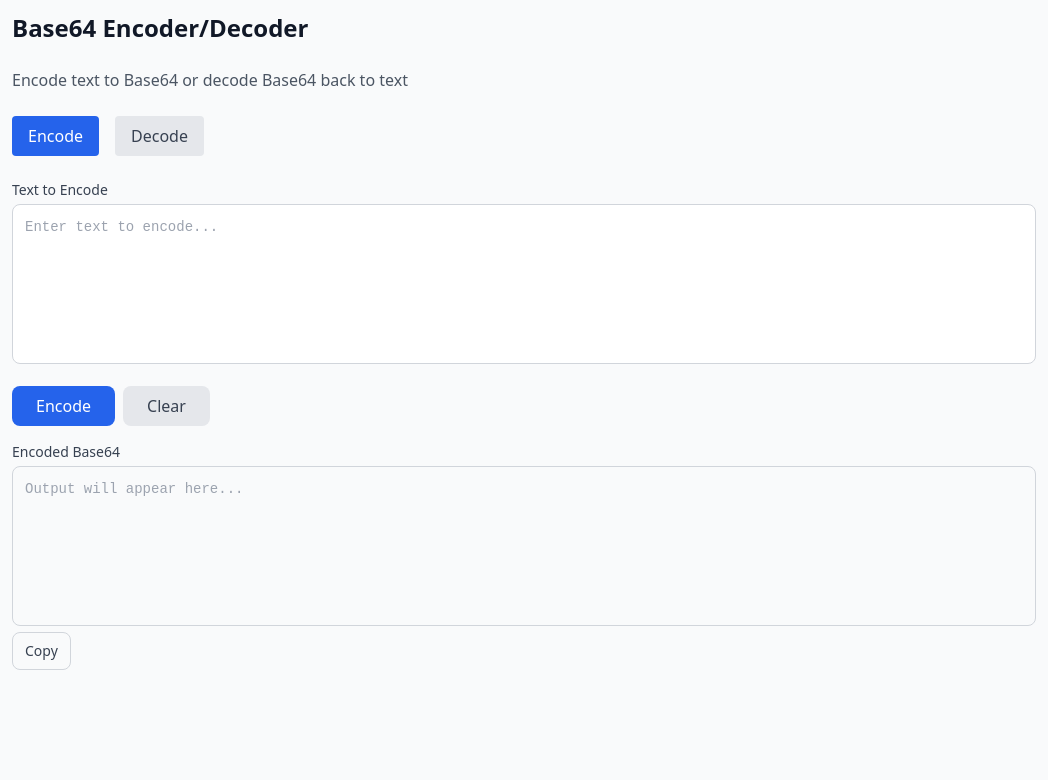
Base64EncoderDecoder › decodes base64 to text
The width and height of the screenshot is (1048, 780).
Click the button "Decode": (159, 136) [115,116,204,156]
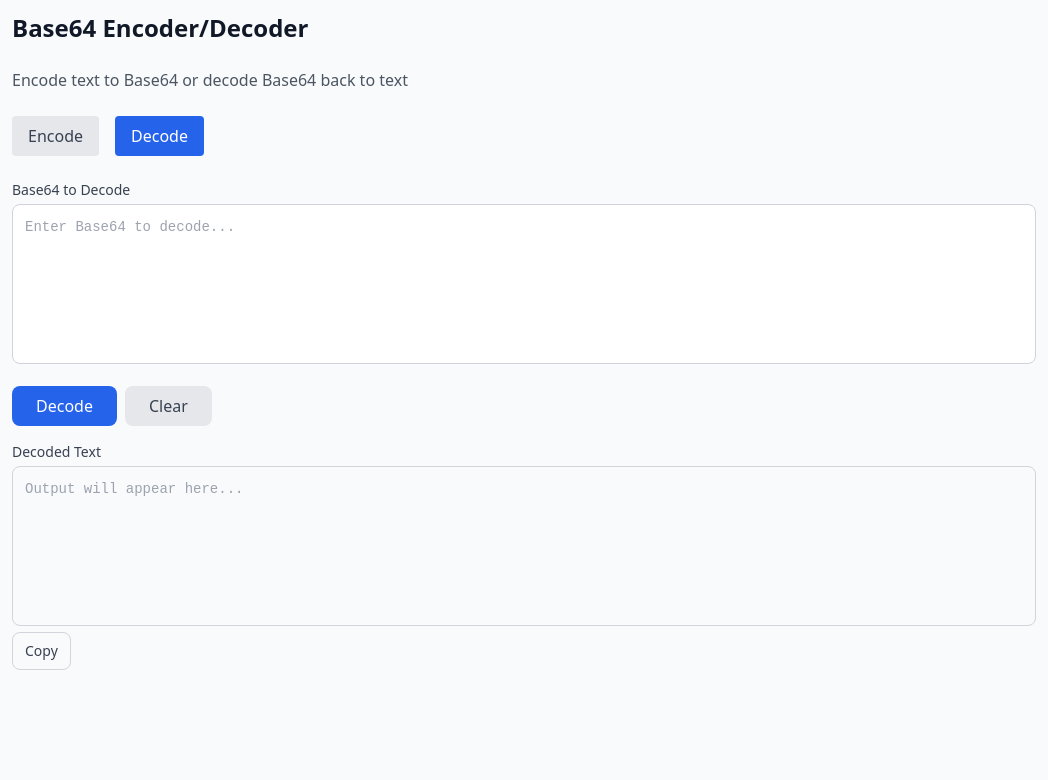
In the text box labelled "Base64 to Decode": (524, 284) [12,204,1036,364], type "SGVsbG8="
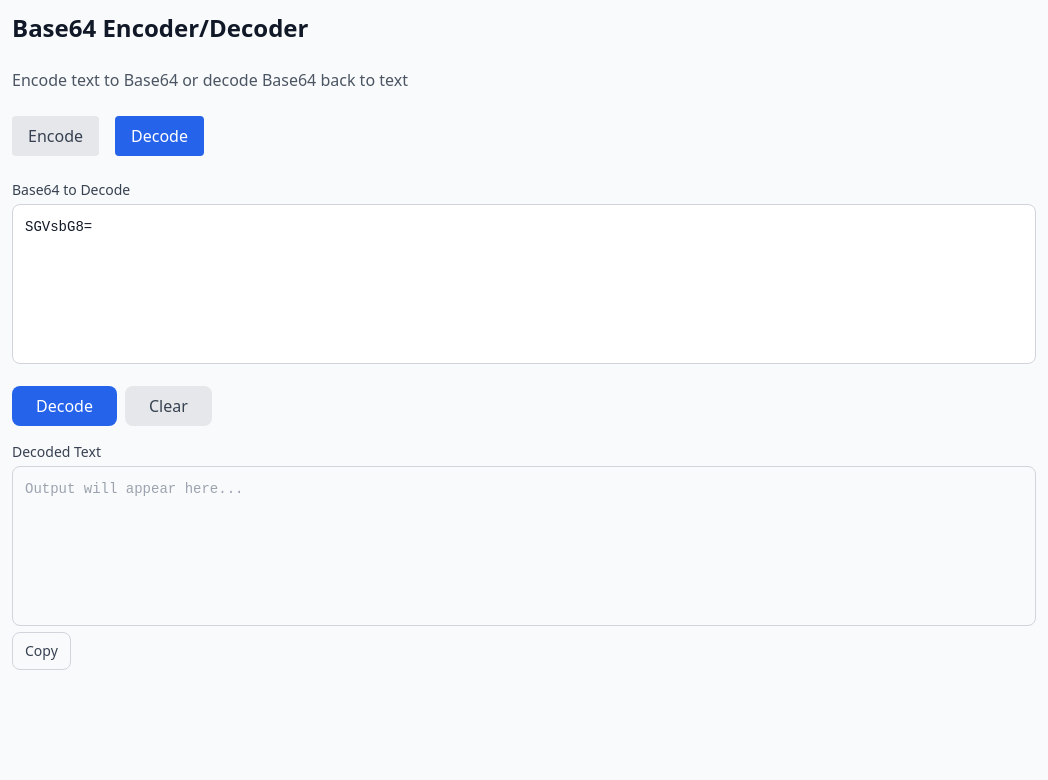
Click the button "Decode" below "Base64 to Decode": (64, 406) [12,386,117,426]
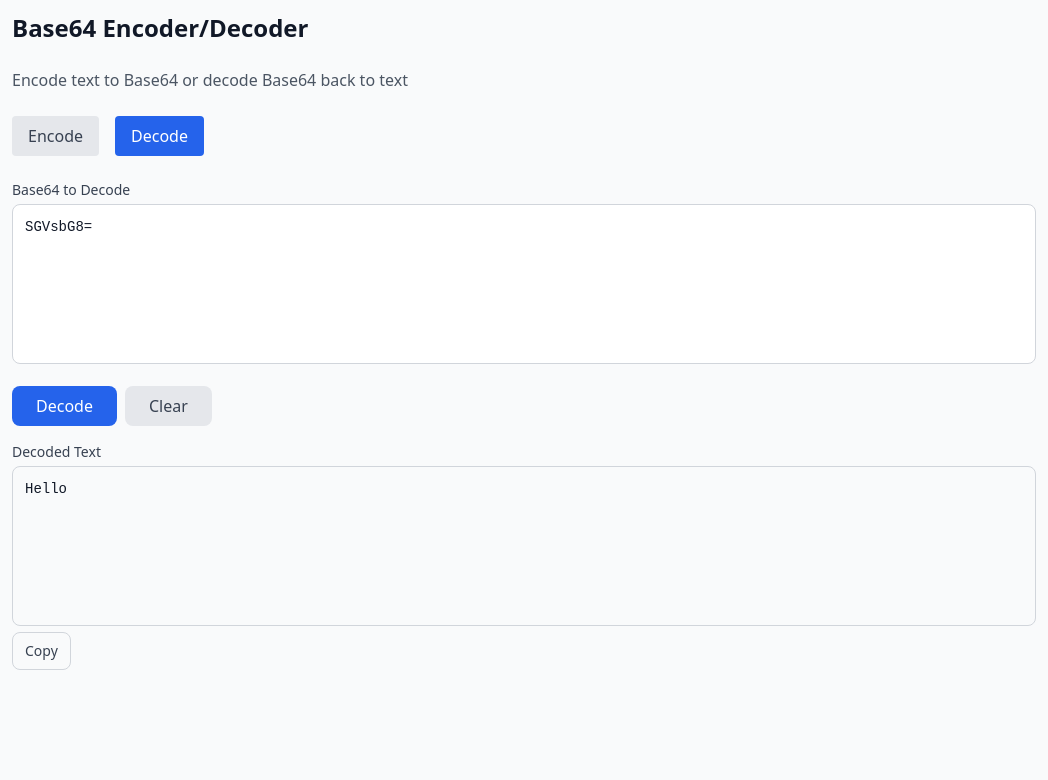
Expected: the text box labelled "Decoded Text" holds "Hello", [12,466,1036,626]
